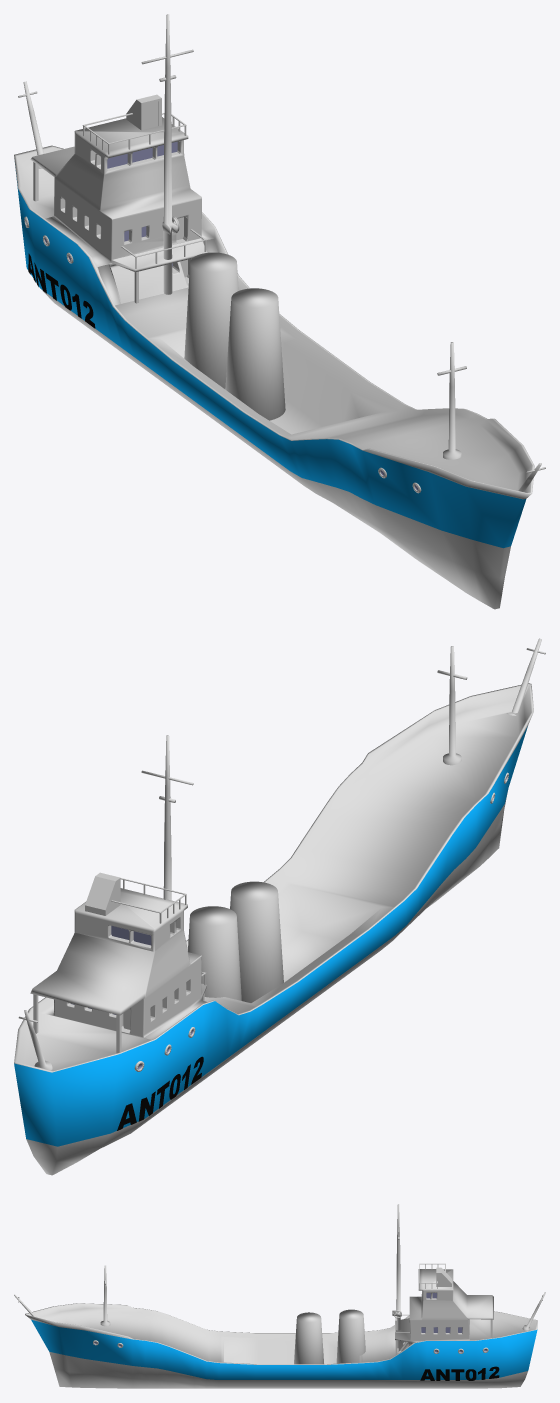
File: D2_Ship2.glb
3 renders of one model, top to bottom at view 1: azimuth 30°, elevation 25°; view 2: azimuth 150°, elevation 25°; view 3: azimuth 270°, elevation 25°, orthographic. The views are drawn at different scales.
Visible parts, largest first — view 1: Object_6, Object_2, Cylinder, Text.002, Object_4; view 2: Object_6, Object_2, Cylinder, Text.002; view 3: Object_6, Object_2, Cylinder, Text.
Boxes of the visible parts, x1,y1,x2,y2 form: Object_6: (14, 14, 545, 609); Object_2: (15, 164, 526, 548); Cylinder: (184, 252, 285, 420); Text.002: (28, 253, 95, 328); Object_4: (26, 141, 418, 490); Object_6: (14, 638, 545, 1175); Object_2: (14, 726, 527, 1146); Cylinder: (188, 881, 283, 1002); Text.002: (117, 1056, 203, 1130); Object_6: (14, 1204, 545, 1388); Object_2: (31, 1319, 537, 1379); Cylinder: (294, 1309, 365, 1364); Text: (420, 1366, 499, 1380).
Size of the model in its own units: 6.14 by 16.34 by 43.39.
